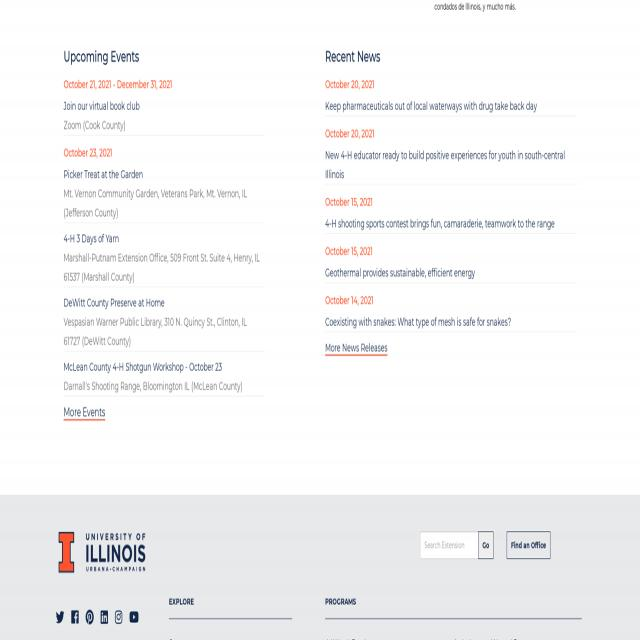button: (59, 532, 145, 572), (507, 532, 550, 560), (478, 532, 493, 560), (129, 608, 139, 626), (85, 608, 94, 626), (56, 608, 64, 626), (71, 608, 79, 626), (100, 608, 108, 626), (115, 608, 122, 626)
field: (420, 532, 478, 560)
